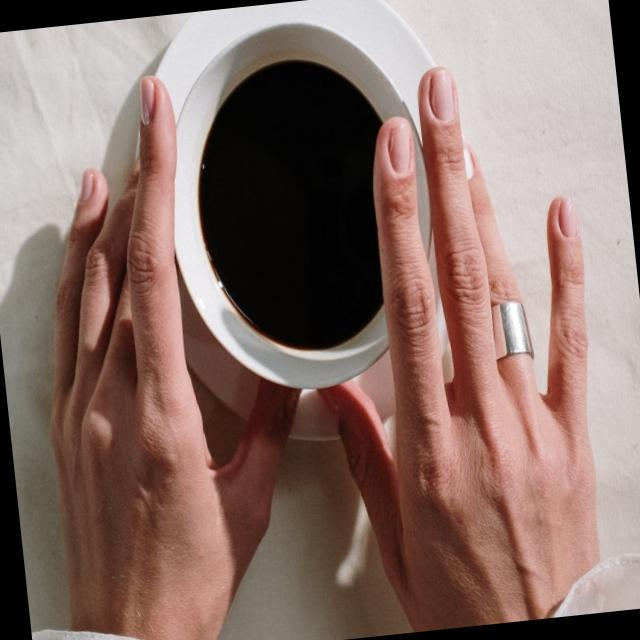Nail: (387, 118, 412, 175), (431, 67, 455, 119), (559, 198, 580, 236), (139, 75, 154, 124), (79, 170, 92, 199)
